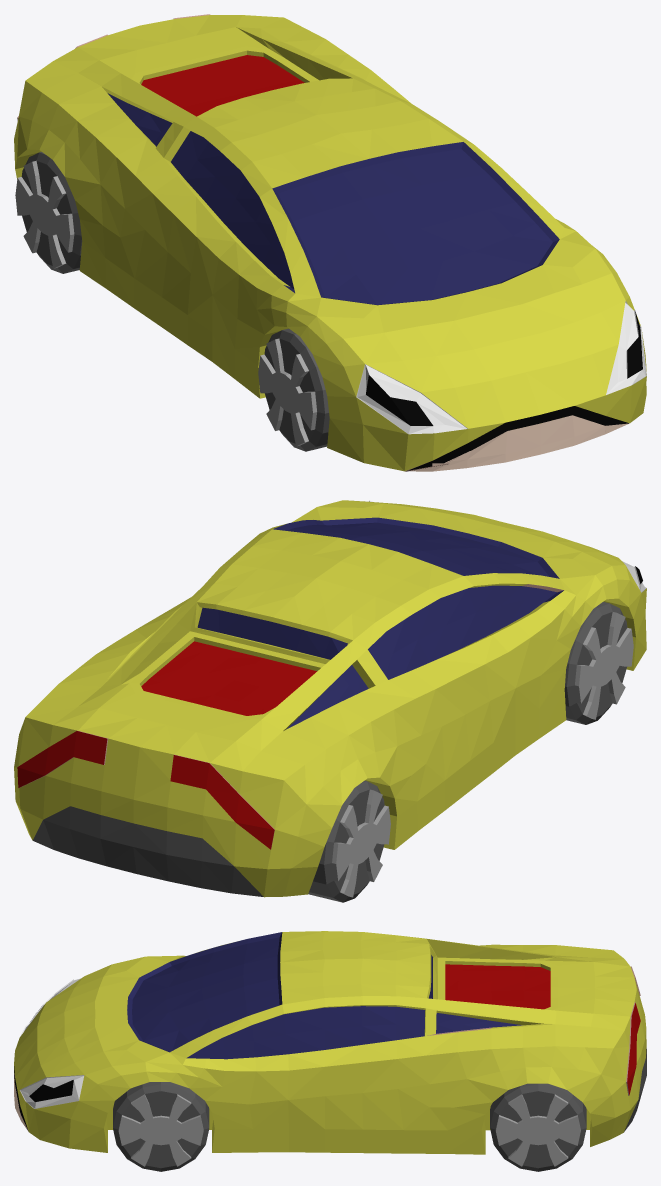
The model's file is lamboghini.fbx.
The picture shows the model from 3 angles, top to bottom: view 1: azimuth 30°, elevation 25°; view 2: azimuth 150°, elevation 25°; view 3: azimuth 270°, elevation 25°; orthographic projection. The views are drawn at different scales.
Parts seen in each view (by area): view 1: SportsCar:sportCar1; view 2: SportsCar:sportCar1; view 3: SportsCar:sportCar1.
Boxes of the visible parts, <box> form: SportsCar:sportCar1: <box>14,14,646,471</box>; SportsCar:sportCar1: <box>14,500,646,902</box>; SportsCar:sportCar1: <box>14,931,646,1171</box>.
Size of the model in its own units: 3.84 by 2.29 by 8.46.
